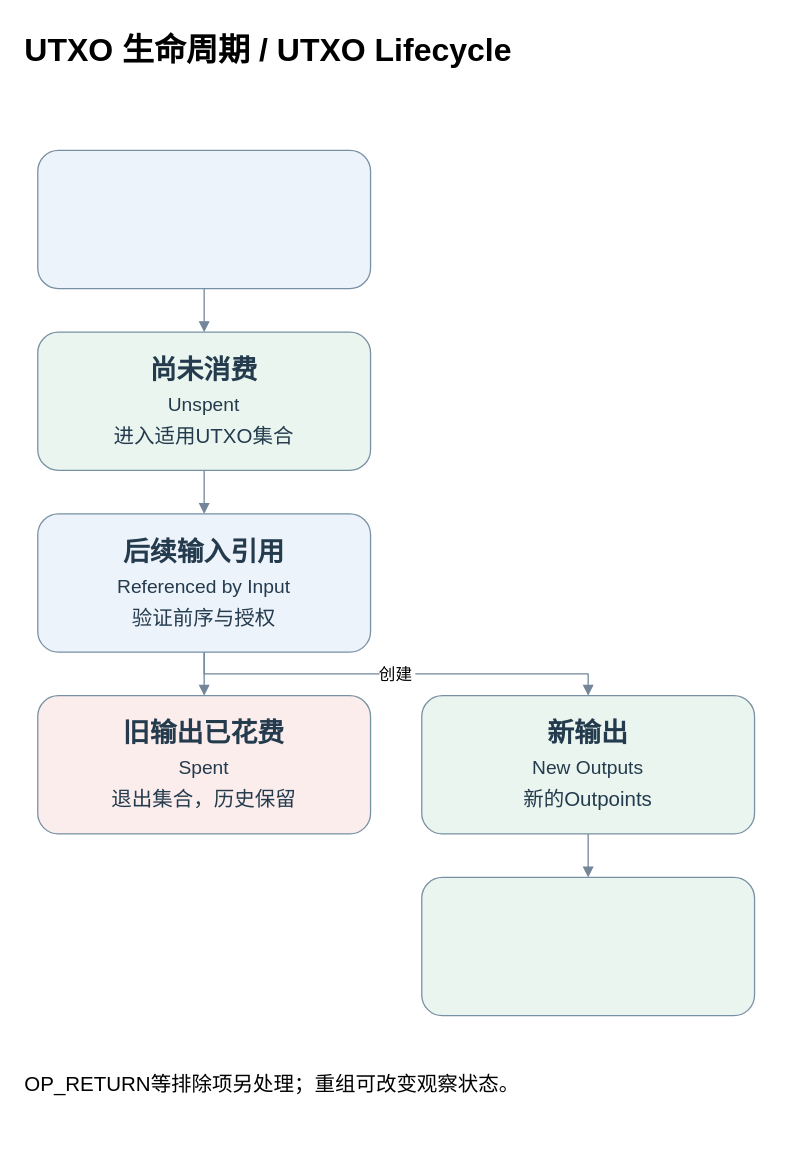
Some shapes in this 791 by 1174 pixel diagram are drawn without their labels. The shapes that lost their labels are listed below. From the top down, each one's centre as x and y in pixels, then its label:
At (x=203, y=219): "交易创建输出 Created 金额 + 花费条件".
At (x=587, y=946): "再次成为未花费 Unspent Again 不是旧输出复活".
